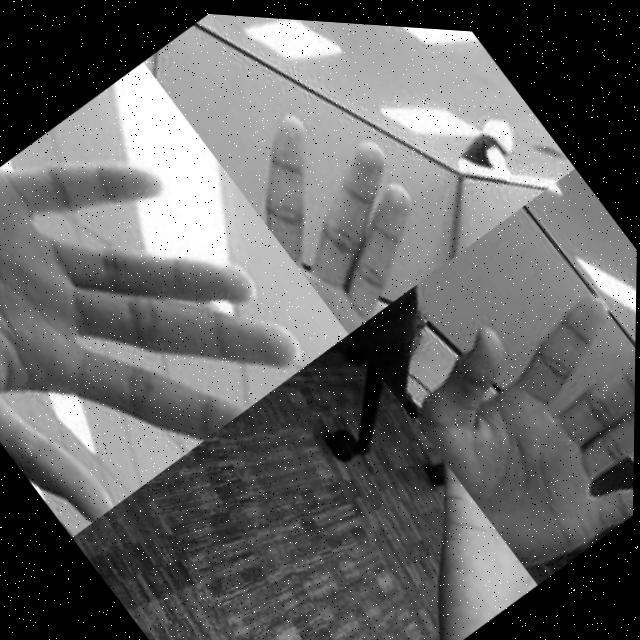hand: (0, 77, 319, 548), (392, 230, 638, 582), (262, 369, 542, 640), (213, 60, 466, 334)
